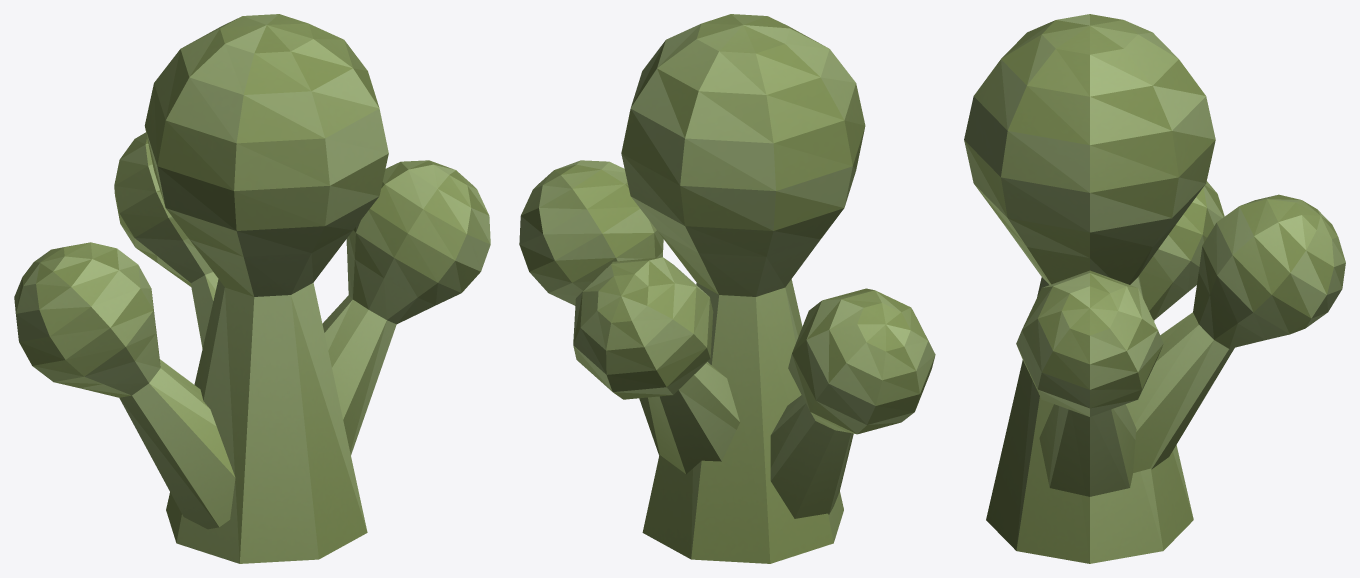
The model's file is Mushroom_Gr_3A.fbx.
3 renders of one model, left to right at view 1: azimuth 30°, elevation 25°; view 2: azimuth 150°, elevation 25°; view 3: azimuth 270°, elevation 25°, orthographic.
Visible parts, largest first — view 1: polySurface697; view 2: polySurface697; view 3: polySurface697.
Boxes of the visible parts, left/top/right/bottom form: polySurface697: left=14, top=14, right=490, bottom=563; polySurface697: left=519, top=14, right=935, bottom=563; polySurface697: left=964, top=14, right=1345, bottom=563.
Size of the model in its own units: 110 by 122 by 85.67.
1 material, 1 textured.
